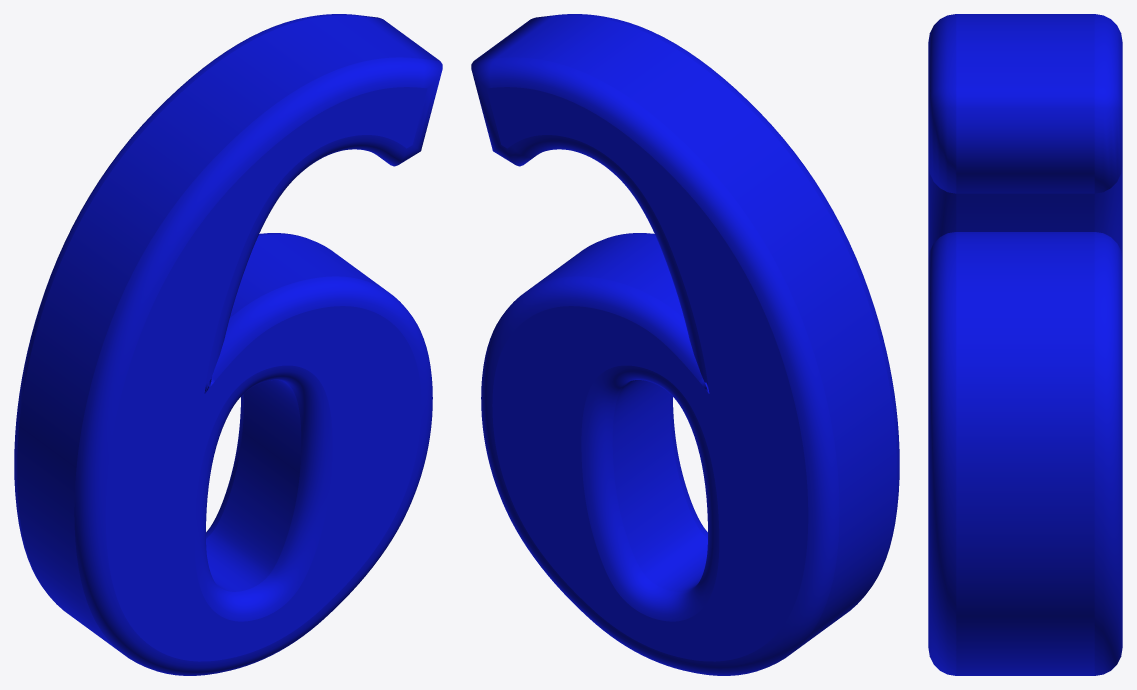
File: number_6.fbx
3 views of the same model, side by side, from view 1: azimuth 30°, elevation 25°; view 2: azimuth 150°, elevation 25°; view 3: azimuth 270°, elevation 25° (orthographic). The views are drawn at different scales.
Visible parts, largest first — view 1: Text; view 2: Text; view 3: Text.
Boxes of the visible parts, x1,y1,x2,y2 form: Text: (14,14,442,675); Text: (471,14,899,675); Text: (928,14,1122,675).
Bounding box in the file's own units: 183 × 274 × 69.41.
